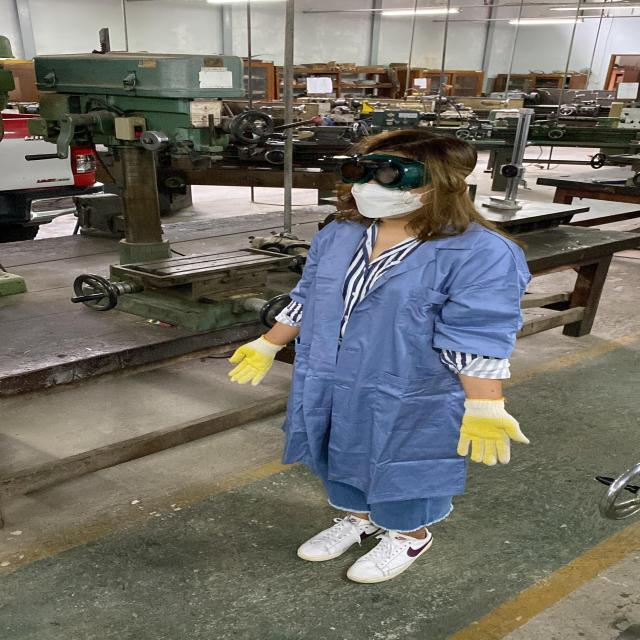glasses: (311, 151, 437, 191)
